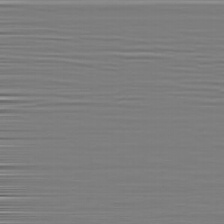cavities: (94, 76, 164, 128)
